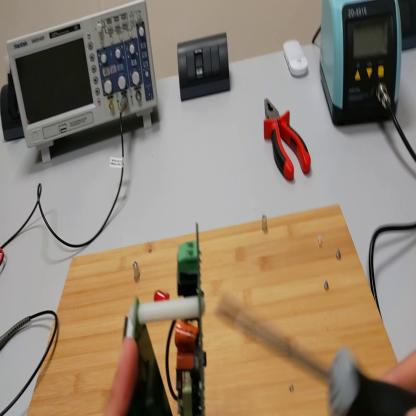hand: (105, 333, 139, 416), (378, 344, 416, 414)
low voltage board: (121, 220, 205, 416)
oscilloscope: (8, 3, 158, 166)
oscilloscope probe tip: (2, 315, 33, 349)
pliers: (262, 94, 314, 185)
screwdriver-: (217, 295, 416, 416)
socket: (2, 82, 26, 143), (403, 3, 416, 49)
welder station: (322, 2, 404, 129)
working area: (28, 202, 400, 415)
